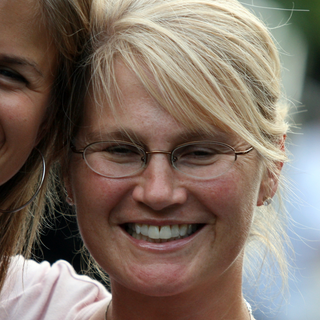eye: (174, 142, 225, 165), (99, 141, 146, 164)
